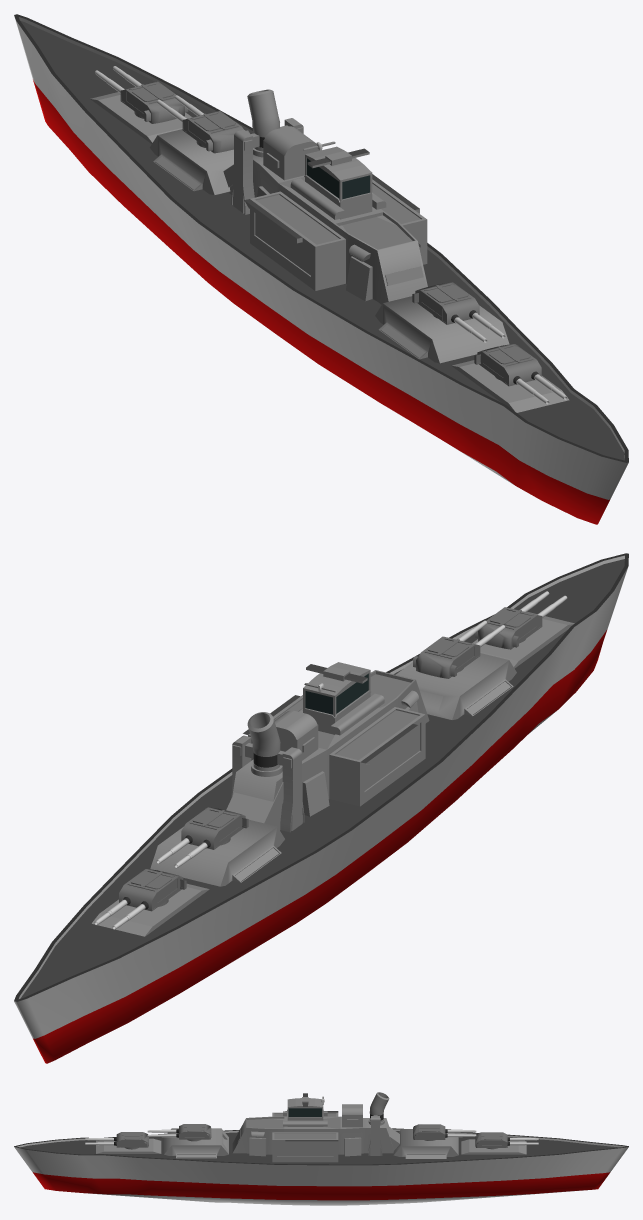
File: BB2 reworked.fbx
3 renders of one model, top to bottom at view 1: azimuth 30°, elevation 25°; view 2: azimuth 150°, elevation 25°; view 3: azimuth 270°, elevation 25°, orthographic. The views are drawn at different scales.
Visible parts, largest first — view 1: Polygon_1, Cube, Polygon, Cube_5, Cube_2, Cube_3, Base_2, Base, Base_4, Base_3, Cube_1, Oil_Tank_1; view 2: Polygon_1, Polygon, Cube, Cube_2, Cube_5, Cube_1, Base, Base_3, Base_4, Oil_Tank_1, Base_2, Cube_3; view 3: Polygon_1, Cube, Polygon, Cube_2, Cube_5, Cube_1, Cube_3, Base_3, Base, Base_2, Base_4, Oil_Tank_1.
Boxes of the visible parts, bbox=[...] form: Polygon_1: bbox=[14, 17, 628, 524]; Cube: bbox=[229, 118, 427, 304]; Polygon: bbox=[14, 14, 628, 462]; Cube_5: bbox=[375, 296, 509, 363]; Cube_2: bbox=[150, 129, 233, 195]; Cube_3: bbox=[452, 360, 569, 412]; Base_2: bbox=[474, 344, 541, 386]; Base: bbox=[412, 282, 479, 324]; Base_4: bbox=[120, 81, 188, 123]; Base_3: bbox=[182, 111, 249, 153]; Cube_1: bbox=[90, 92, 192, 143]; Oil_Tank_1: bbox=[247, 89, 279, 157]; Polygon_1: bbox=[14, 567, 627, 1063]; Polygon: bbox=[14, 553, 628, 1001]; Cube: bbox=[231, 662, 429, 832]; Cube_2: bbox=[150, 782, 284, 886]; Cube_5: bbox=[395, 653, 516, 719]; Cube_1: bbox=[92, 883, 209, 936]; Base: bbox=[413, 636, 480, 678]; Base_3: bbox=[181, 807, 248, 849]; Base_4: bbox=[119, 869, 186, 911]; Oil_Tank_1: bbox=[247, 712, 282, 776]; Base_2: bbox=[475, 607, 542, 649]; Cube_3: bbox=[472, 611, 574, 668]; Polygon_1: bbox=[14, 1147, 628, 1205]; Cube: bbox=[232, 1093, 394, 1162]; Polygon: bbox=[14, 1128, 628, 1165]; Cube_2: bbox=[389, 1127, 458, 1158]; Cube_5: bbox=[164, 1128, 228, 1158]; Cube_1: bbox=[461, 1139, 526, 1154]; Cube_3: bbox=[96, 1138, 161, 1153]; Base_3: bbox=[413, 1124, 445, 1139]; Base: bbox=[179, 1124, 211, 1139]; Base_2: bbox=[116, 1132, 148, 1147]; Base_4: bbox=[475, 1132, 507, 1147]; Oil_Tank_1: bbox=[368, 1092, 389, 1125].
Bounding box in the file's own units: 114 × 151 × 789.
